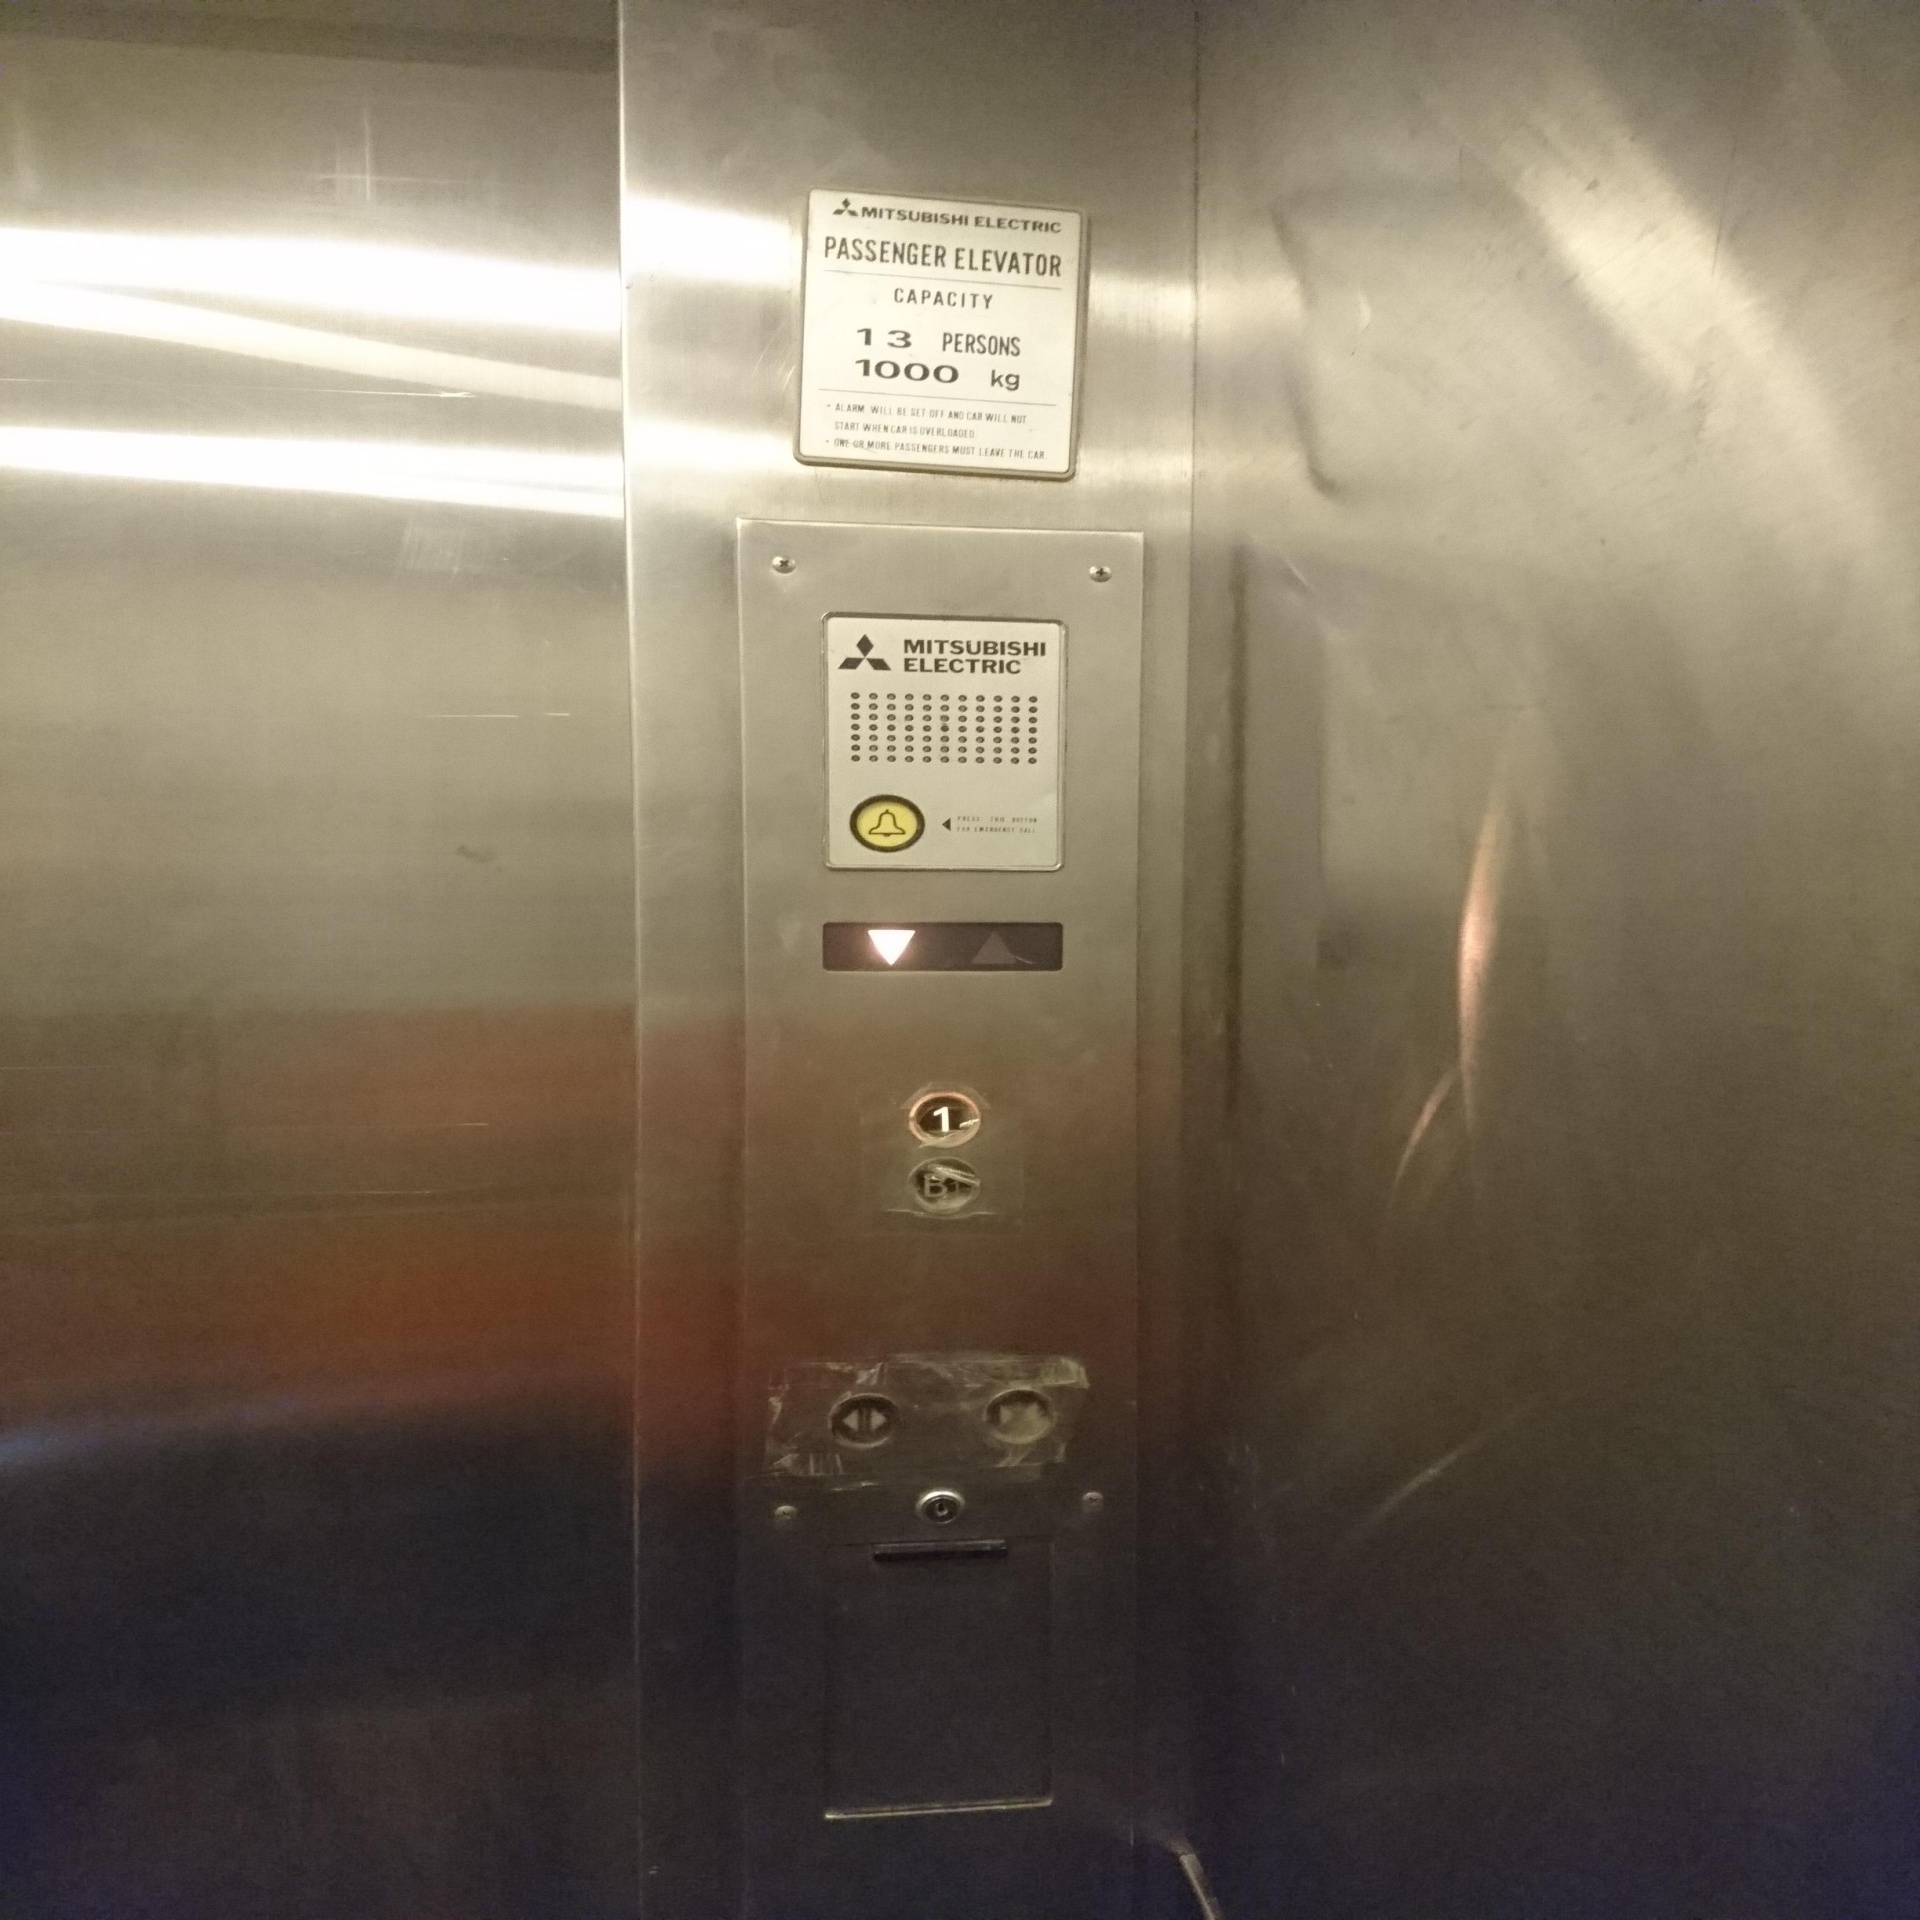1: (911, 1088, 983, 1148)
B1: (905, 1159, 981, 1211)
alarm: (842, 784, 930, 853)
close: (983, 1387, 1055, 1449)
keyhole: (909, 1487, 967, 1530)
led: (816, 914, 1069, 978)
open: (828, 1391, 902, 1449)
